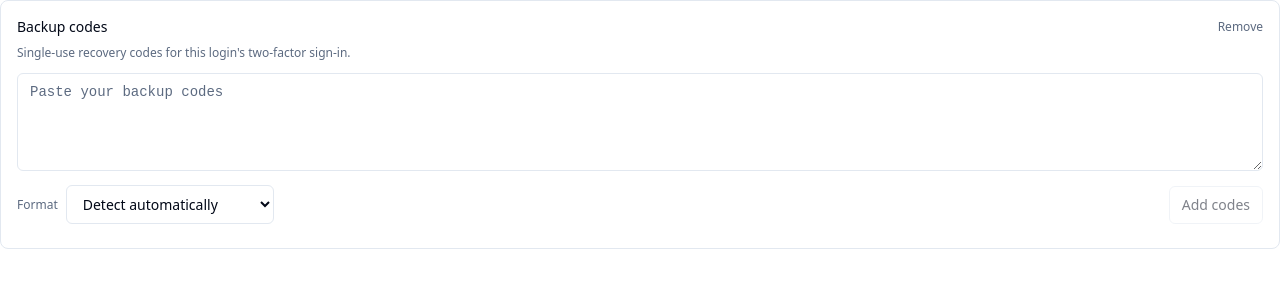
BackupCodesEditor parse feedback › uses the singular for one code
Type "A-1" into the text box with placeholder "Paste your backup codes" at (640, 122), box [17, 73, 1263, 171]
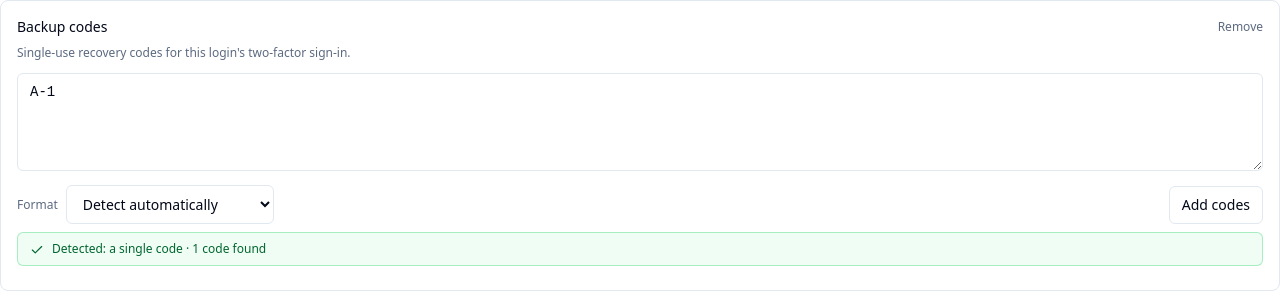
Now the text "Detected: a single code · 1 code found" is shown, box [52, 241, 266, 257]
